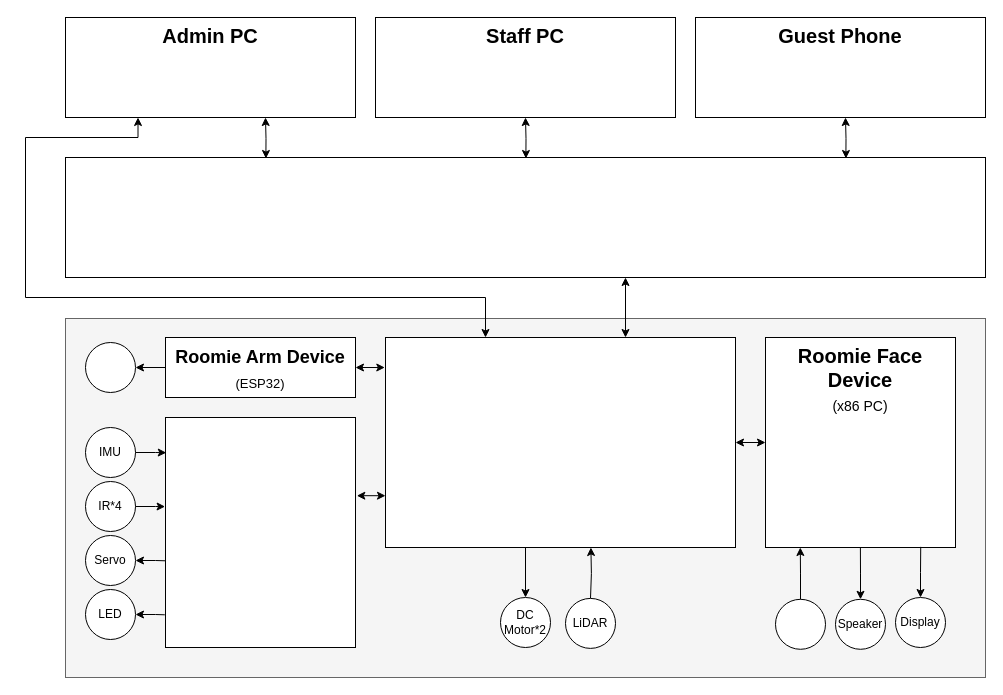
Image size: 1003x695. Some labels were removed from this diagram. The box of each missing label's shape, as (x1, y1, x2, y2) in pixels:
Camera *2: (774, 598, 826, 649)
Roomie Control Device (Rasberry Pi 5): (384, 336, 736, 548)
Roomie Edge Device (ESP32): (164, 416, 356, 648)
Roomie Main Server (x86 PC): (64, 156, 986, 278)
Roomie Robot Package: (64, 318, 986, 678)
Servo *6: (84, 342, 136, 392)
